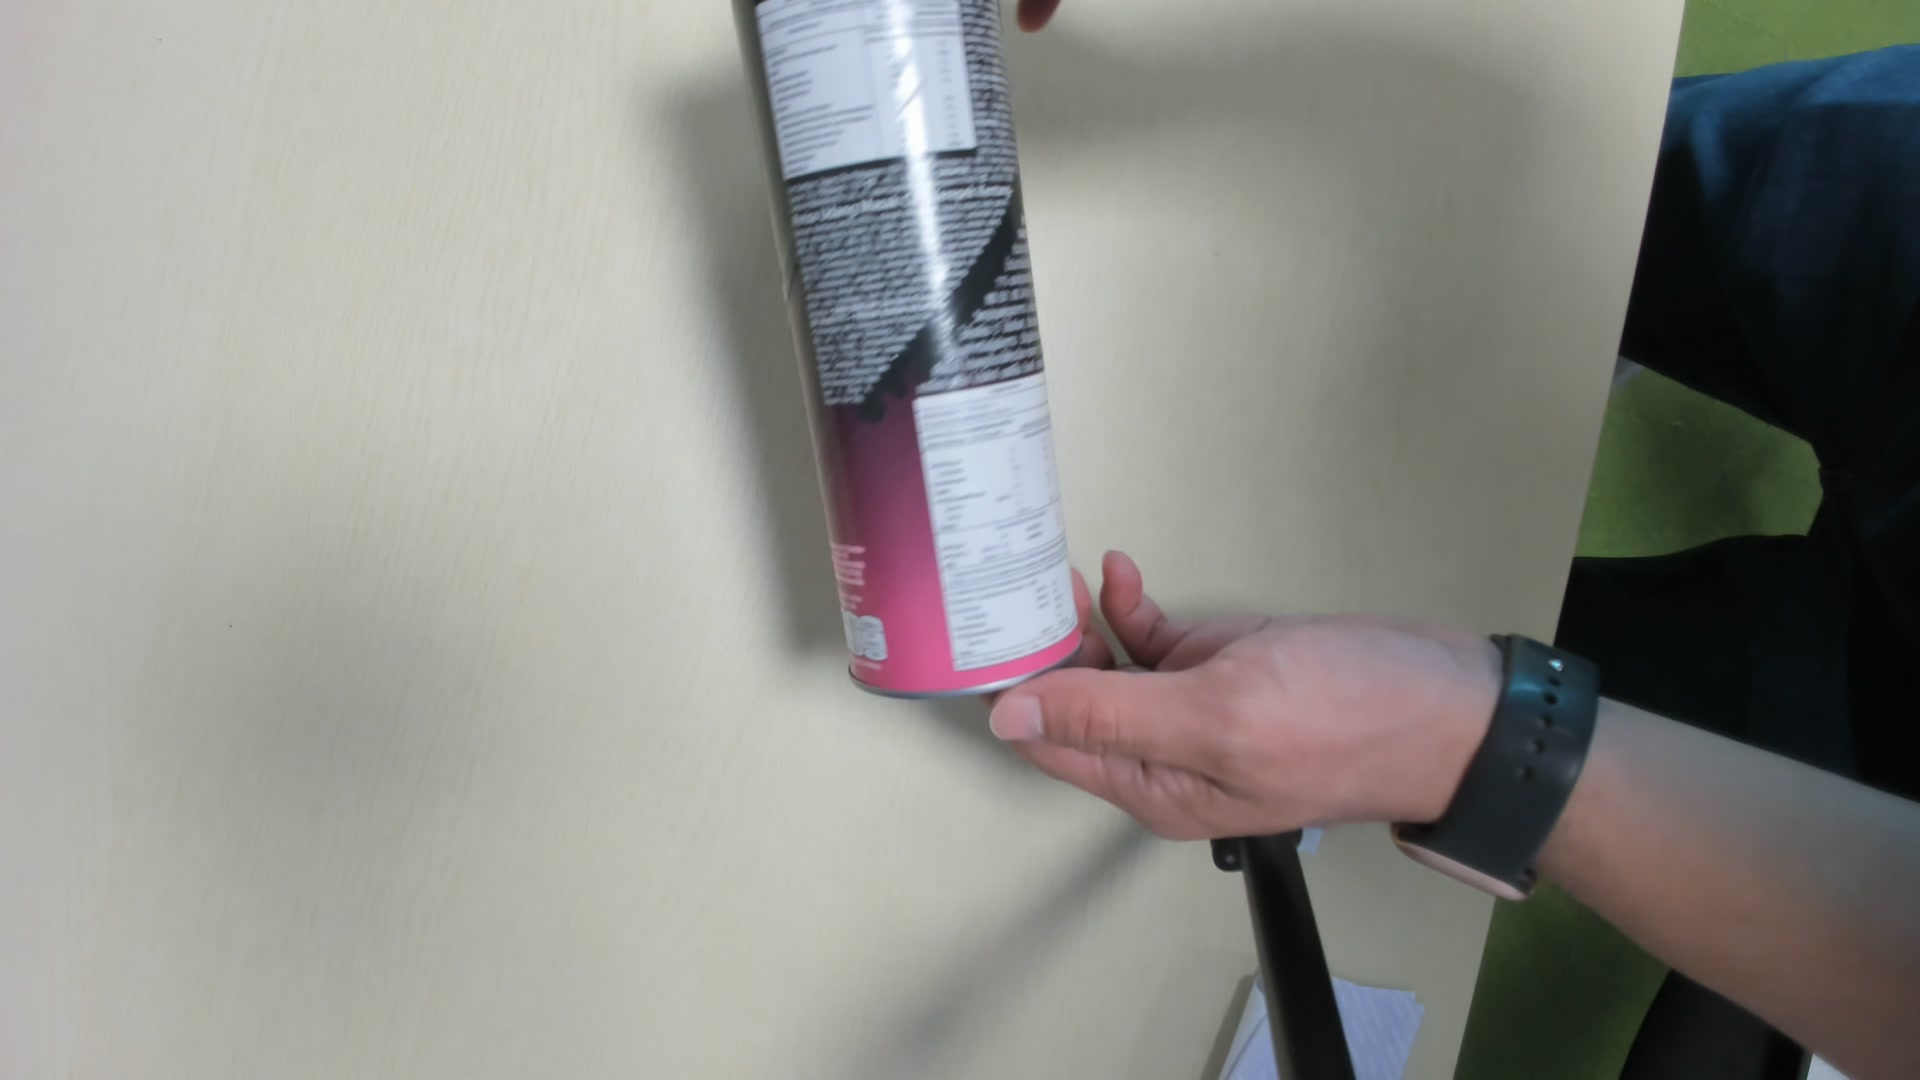PotatoChipsKeropok_0-99g_NonHalal_NonHealthy: (736, 3, 1081, 705)
